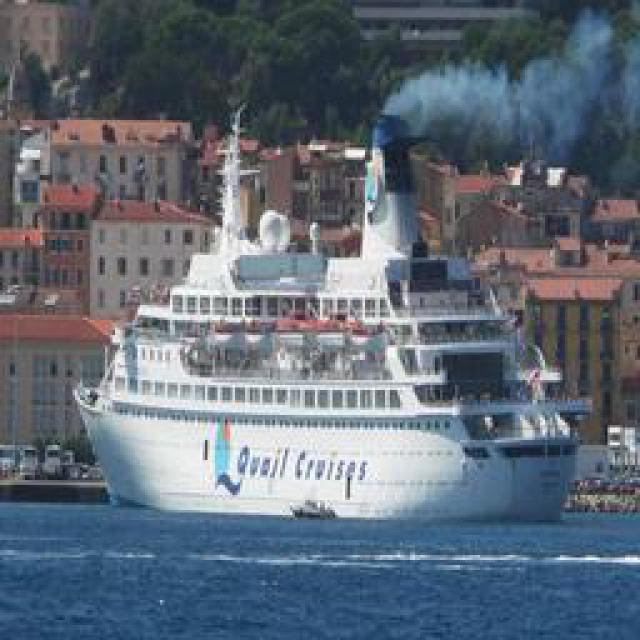Ship: (75, 113, 583, 527)
